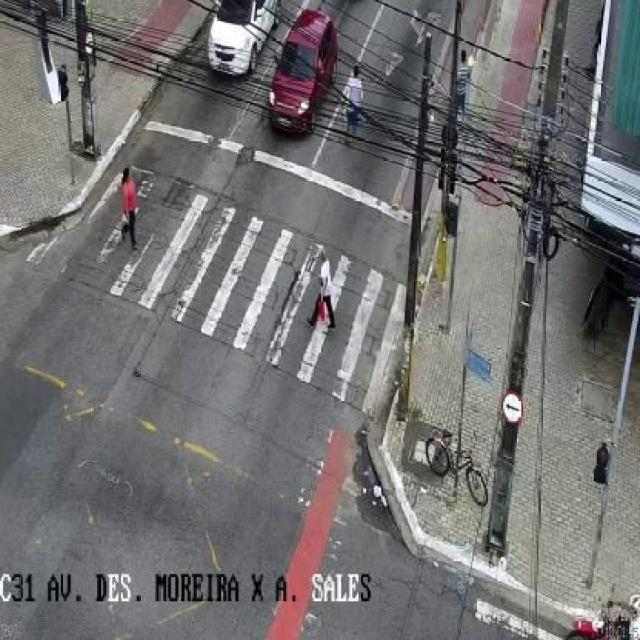Car: (265, 7, 339, 138), (203, 0, 284, 77)
Cycle: (424, 428, 490, 507)
